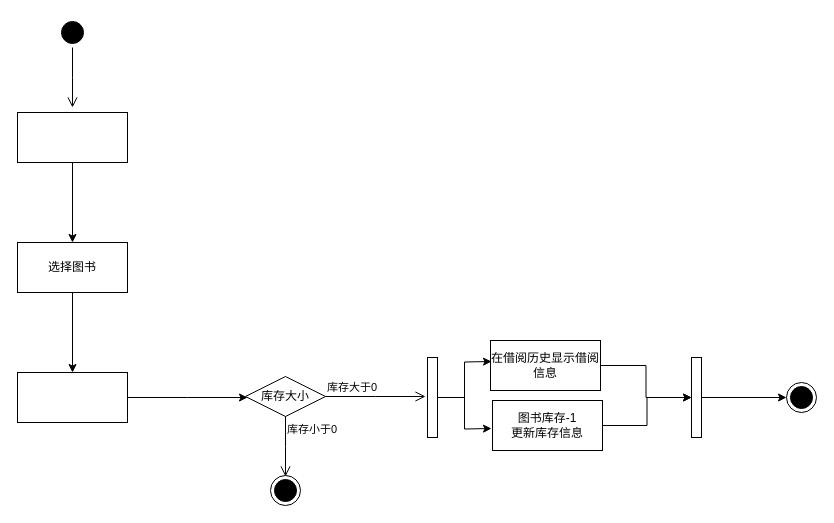
Some shapes in this 834 by 523 pixel diagram are drawn without their labels. Here are the shapes that lost their labels. From the top down, the box of each, then its label:
(16, 112, 128, 162): 查看图书列表
(16, 372, 128, 422): 点击借阅
